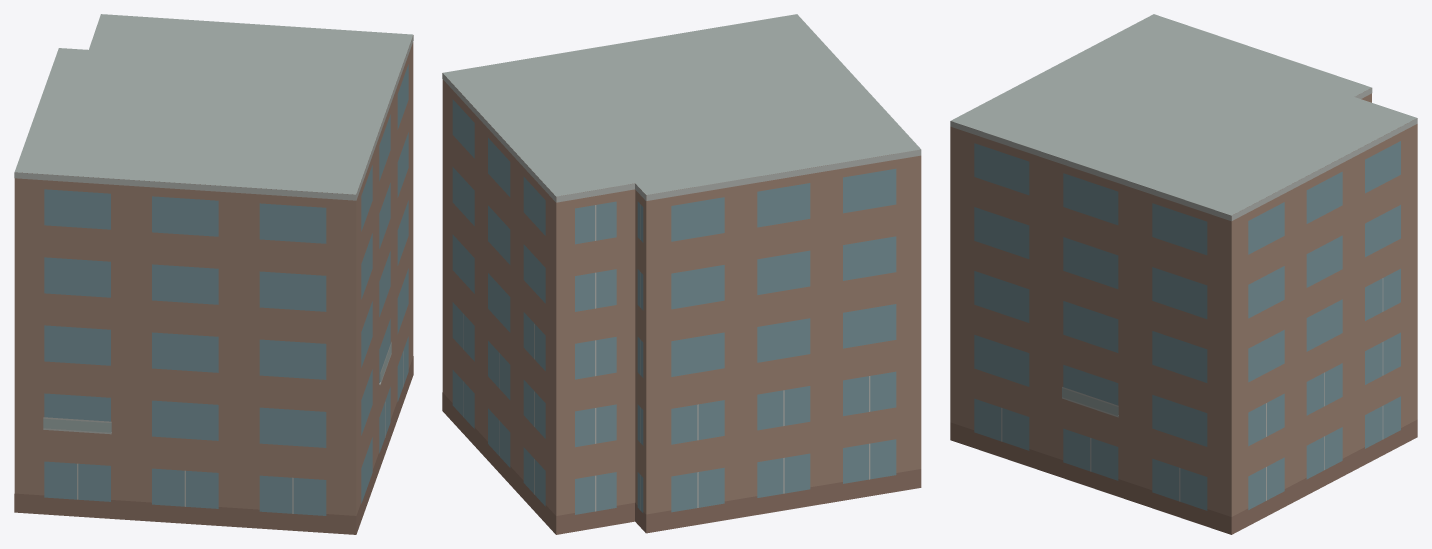
Rendered from survey-upis-33043173.glb.
3 renders of one model, left to right at view 1: azimuth 30°, elevation 25°; view 2: azimuth 150°, elevation 25°; view 3: azimuth 270°, elevation 25°, orthographic. The views are drawn at different scales.
Visible parts, largest first — view 1: survey-upis-33043173.tmp; view 2: survey-upis-33043173.tmp; view 3: survey-upis-33043173.tmp.
Part boxes in pixels (<box>): survey-upis-33043173.tmp: <box>14,14,413,534</box>; survey-upis-33043173.tmp: <box>442,14,921,534</box>; survey-upis-33043173.tmp: <box>950,14,1417,534</box>.
Bounding box in the file's own units: 18.56 × 13.7 × 18.18.
